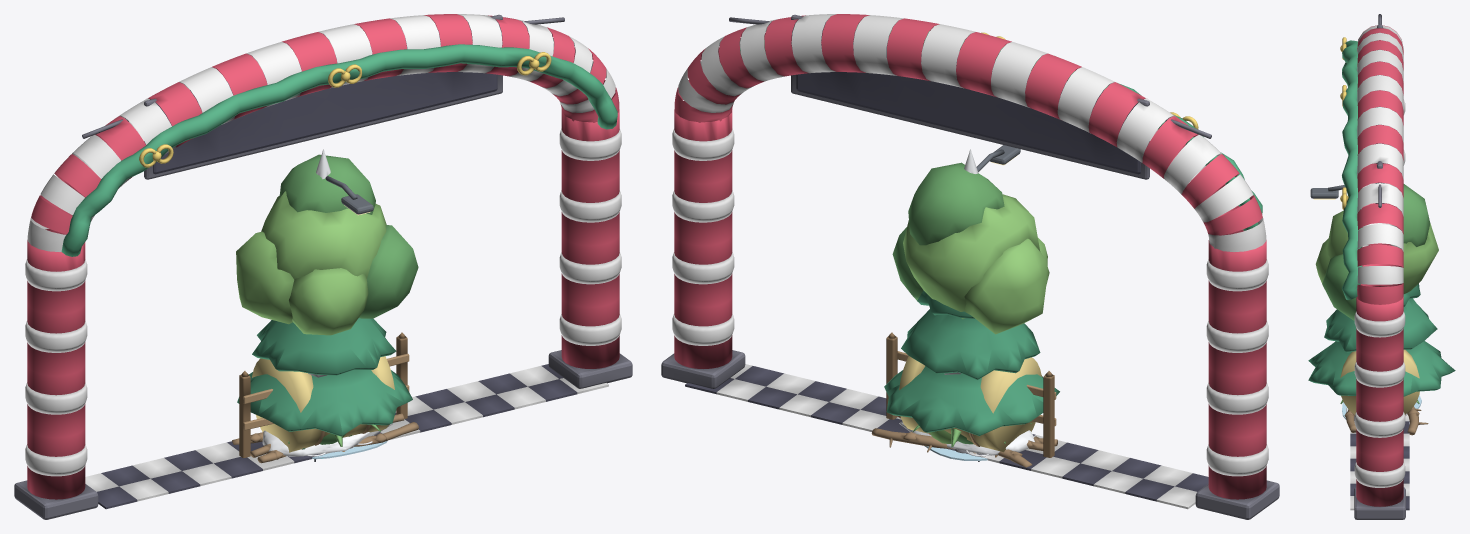
Rendered from bike-world.glb.
3 views of the same model, side by side, from view 1: azimuth 30°, elevation 25°; view 2: azimuth 150°, elevation 25°; view 3: azimuth 270°, elevation 25° (orthographic). The views are drawn at different scales.
Visible parts, largest first — view 1: Arch, PrTree, ArchGarland, PrPine, PrHay, PrFence, HzRoots, PrDrift; view 2: Arch, PrTree, PrPine, PrHay, PrFence, HzRoots, PrDrift, ArchGarland; view 3: Arch, PrPine, PrTree, ArchGarland, PrHay, HzRoots, PrLamp.
Part boxes in pixels (box(x1,y1,x2,y2)): Arch: box(14, 14, 632, 519); PrTree: box(236, 154, 418, 335); ArchGarland: box(61, 44, 617, 256); PrPine: box(237, 318, 412, 436); PrHay: box(252, 356, 394, 452); PrFence: box(239, 332, 409, 457); HzRoots: box(232, 413, 418, 463); PrDrift: box(262, 423, 392, 456); Arch: box(661, 14, 1279, 519); PrTree: box(892, 162, 1049, 334); PrPine: box(884, 290, 1059, 436); PrHay: box(899, 356, 1041, 452); PrFence: box(886, 332, 1056, 457); HzRoots: box(871, 415, 1057, 467); PrDrift: box(899, 421, 1034, 455); ArchGarland: box(721, 24, 1262, 230); Arch: box(1350, 14, 1409, 519); PrPine: box(1308, 283, 1455, 396); PrTree: box(1315, 184, 1438, 320); ArchGarland: box(1340, 37, 1363, 299); PrHay: box(1340, 349, 1419, 414); HzRoots: box(1344, 406, 1428, 435); PrLamp: box(1310, 185, 1344, 199).
Size of the model in its own units: 7.5 by 5.15 by 2.
